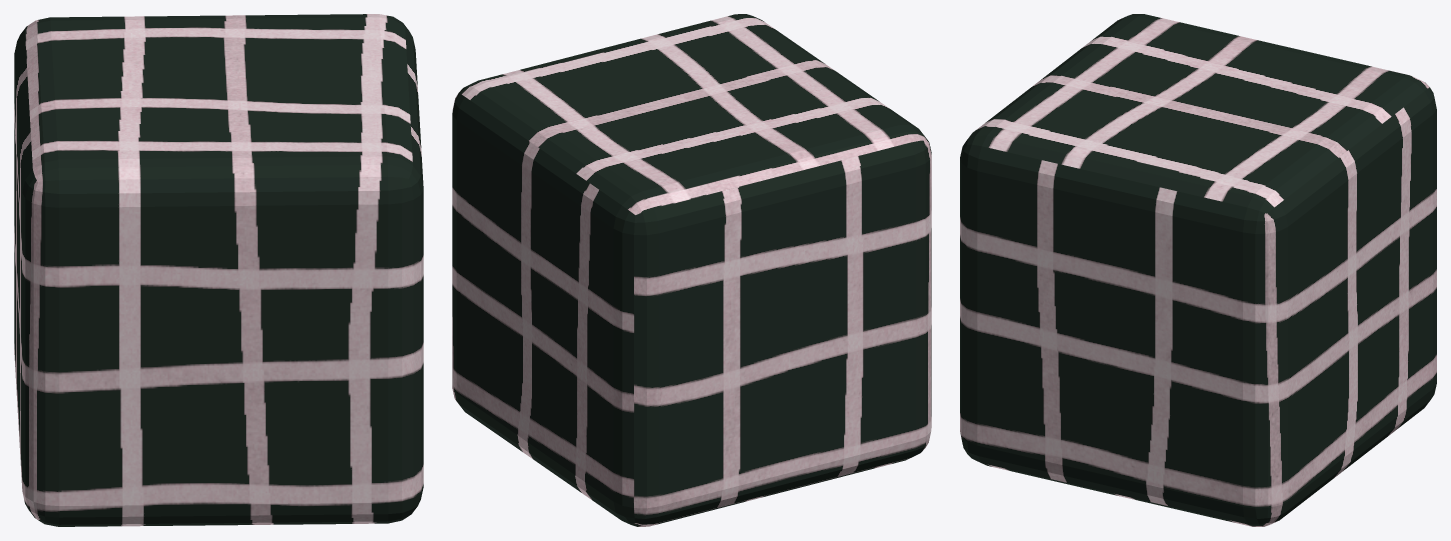
Rendered from 010_Shadow_Box_04.fbx.
The picture shows the model from 3 angles, left to right: view 1: azimuth 30°, elevation 25°; view 2: azimuth 150°, elevation 25°; view 3: azimuth 270°, elevation 25°; orthographic projection. The views are drawn at different scales.
Visible parts, largest first — view 1: Cube.022; view 2: Cube.022; view 3: Cube.022.
Boxes of the visible parts, bbox=[...] form: Cube.022: bbox=[14, 14, 423, 526]; Cube.022: bbox=[452, 14, 931, 526]; Cube.022: bbox=[960, 14, 1436, 526].
Bounding box in the file's own units: 146 × 113 × 146.
